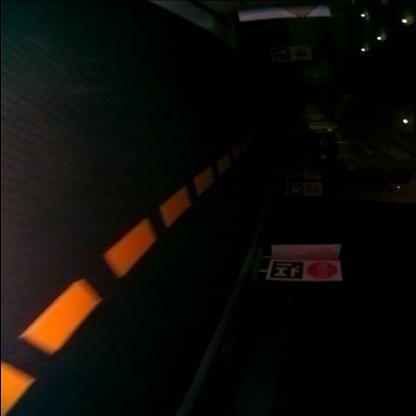Intersection sign: (292, 48, 312, 62)
QR code: (266, 260, 304, 282), (271, 48, 292, 62), (286, 182, 304, 196)
Stop sign: (306, 265, 342, 282), (306, 184, 322, 196)
